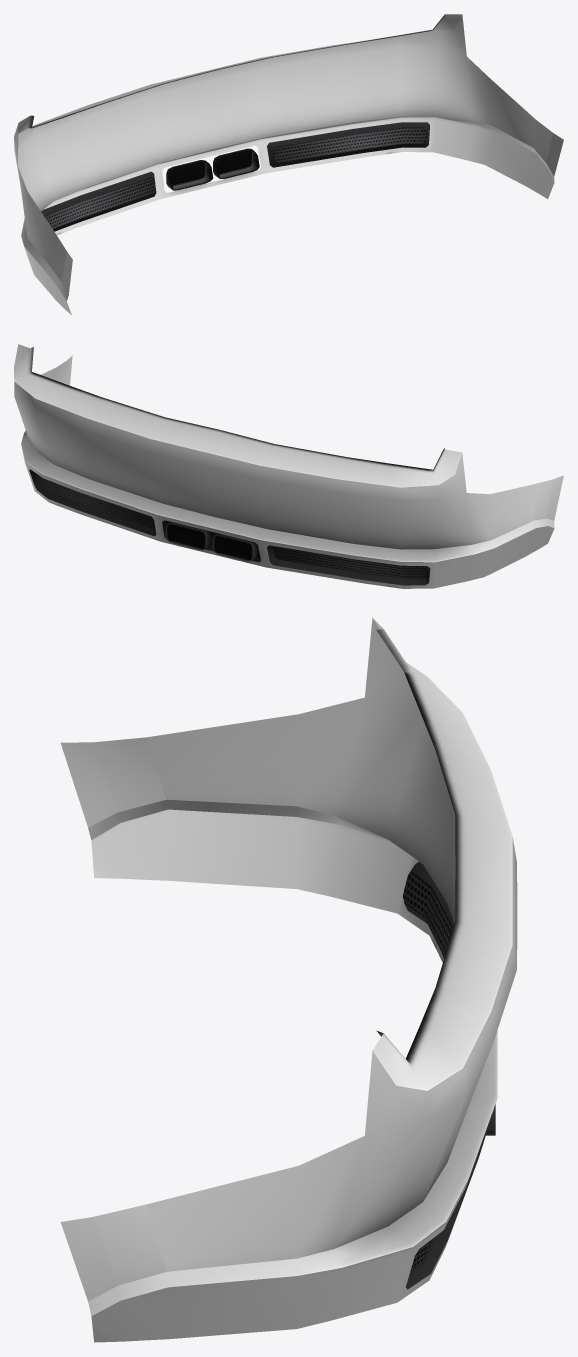
Rendered from Sport_03_Bumper_B_3.fbx.
3 views of the same model, one above another, from view 1: azimuth 30°, elevation 25°; view 2: azimuth 150°, elevation 25°; view 3: azimuth 270°, elevation 25° (orthographic). The views are drawn at different scales.
Visible parts, largest first — view 1: Sport_03_Bumper_B_3; view 2: Sport_03_Bumper_B_3; view 3: Sport_03_Bumper_B_3.
Boxes of the visible parts, x1=… form: Sport_03_Bumper_B_3: x1=14, y1=14, x2=563, y2=314; Sport_03_Bumper_B_3: x1=14, y1=344, x2=563, y2=588; Sport_03_Bumper_B_3: x1=60, y1=617, x2=517, y2=1342.
Bounding box in the file's own units: 210 × 57.14 × 84.47.
